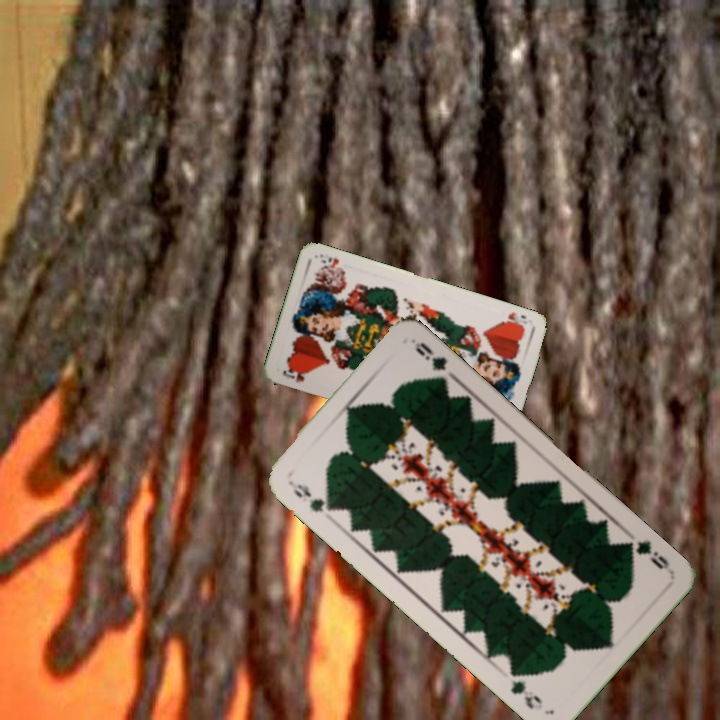G9: (284, 476, 338, 515), (618, 536, 672, 574)
HO: (498, 308, 530, 331), (278, 363, 311, 385)
